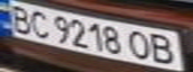1: (84, 20, 106, 52)
2: (66, 17, 87, 50)
8: (103, 24, 127, 56)
9: (48, 12, 72, 45)
B: (145, 32, 181, 65), (3, 2, 36, 34)
C: (24, 8, 54, 38)
O: (124, 28, 154, 61)
